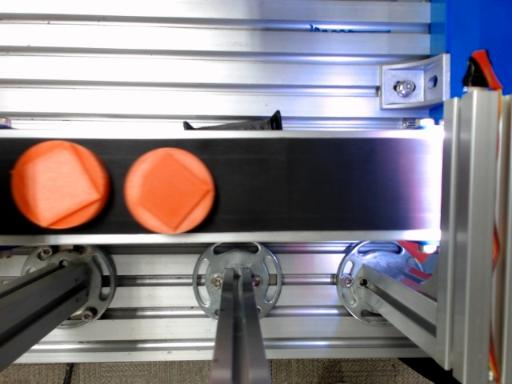Orange_Waper: (11, 141, 108, 228), (124, 148, 214, 234)
